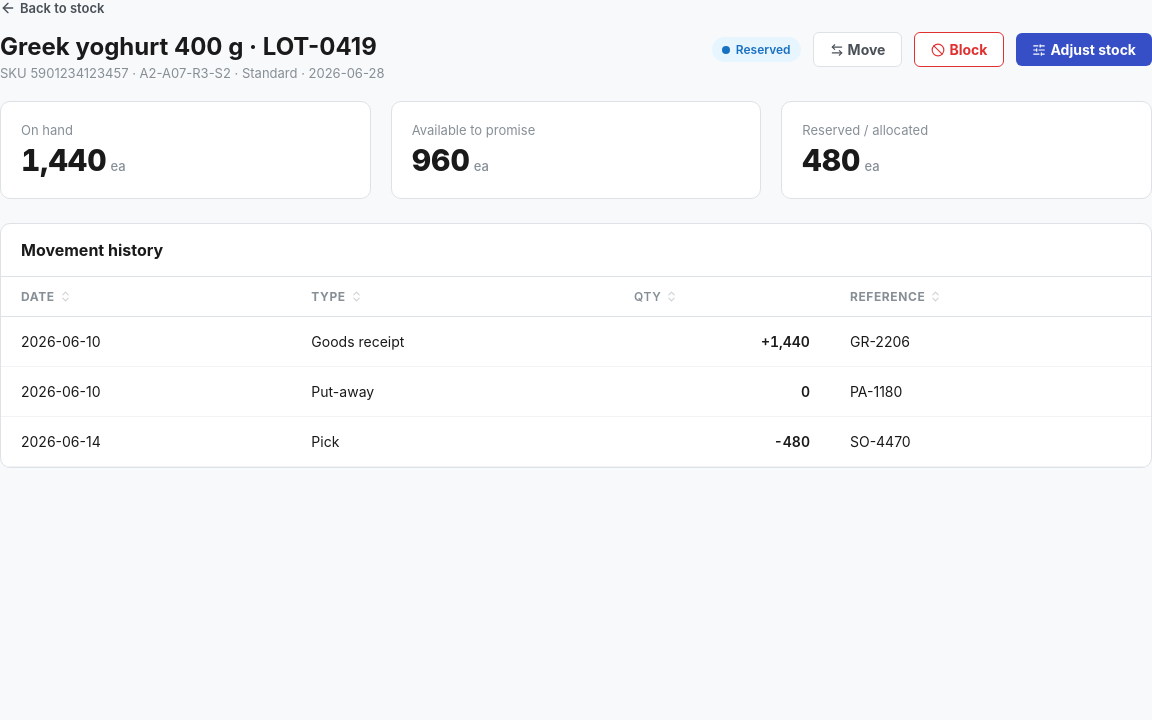
Test: StockItemScreen › blocks a stock item with a required reason
expect the heading "Greek yoghurt 400 g · LOT-0419" is shown: met, box [0,32,384,61]
Click the button "Block" at (960, 50), box [914,32,1004,67]
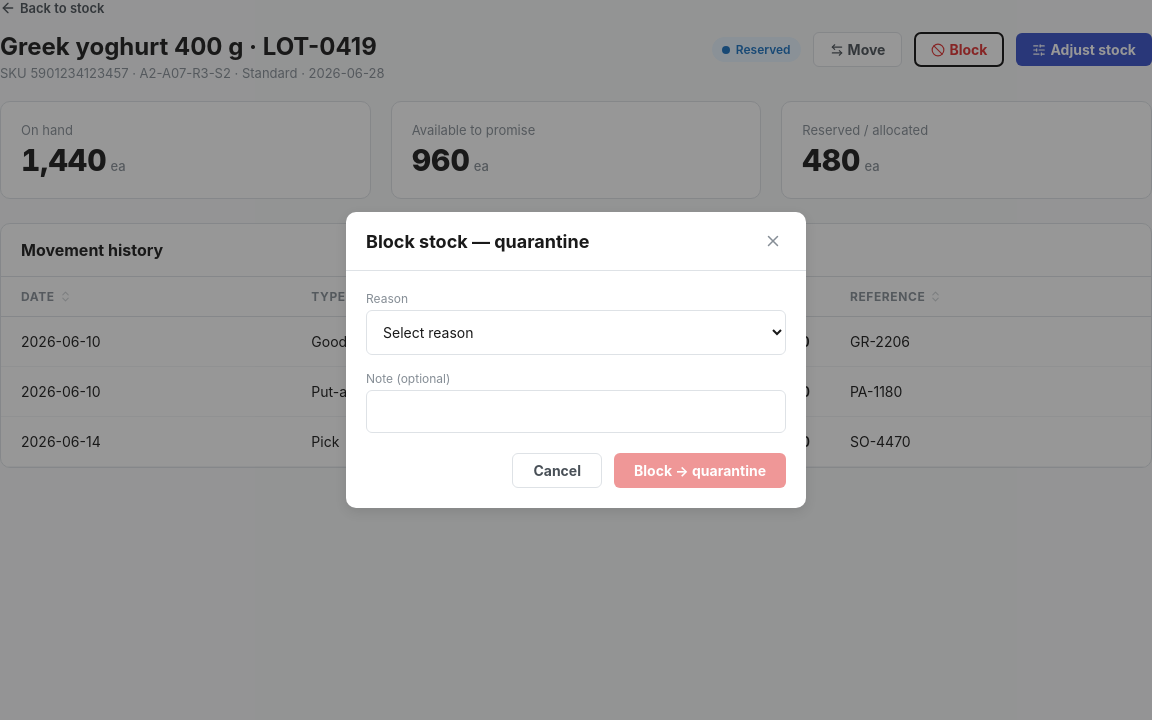
expect the button "Block → quarantine" is disabled: met, box [614,453,786,488]
Select "Damage" in the dropdown labelled "Reason" at (576, 332), box [366,310,786,355]
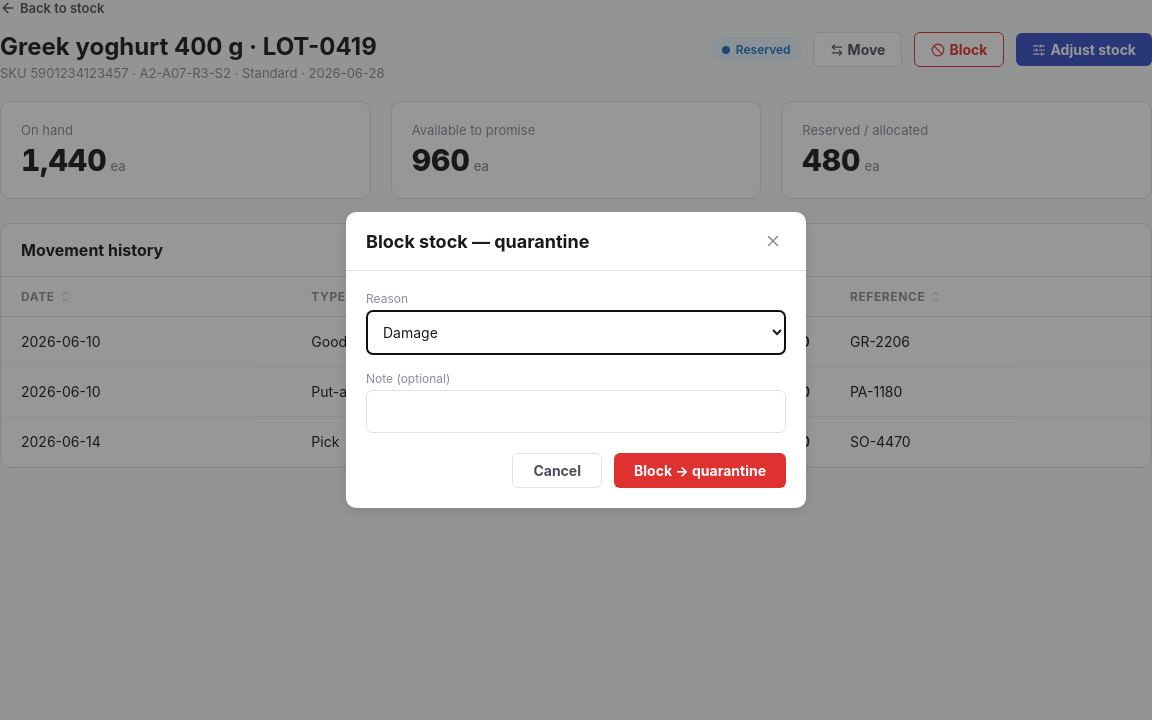
Click the button "Block → quarantine" at (700, 470), box [614,453,786,488]
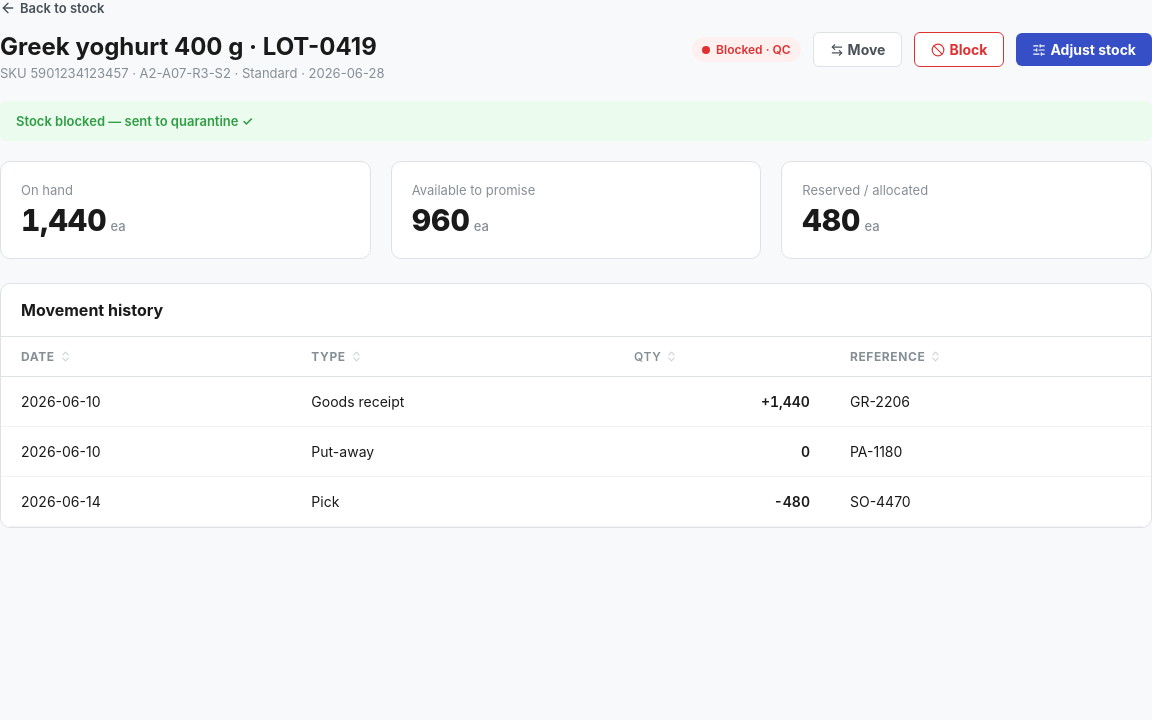
expect the text "Stock blocked — sent to quarantine ✓" is shown: met, box [0,101,1151,141]
